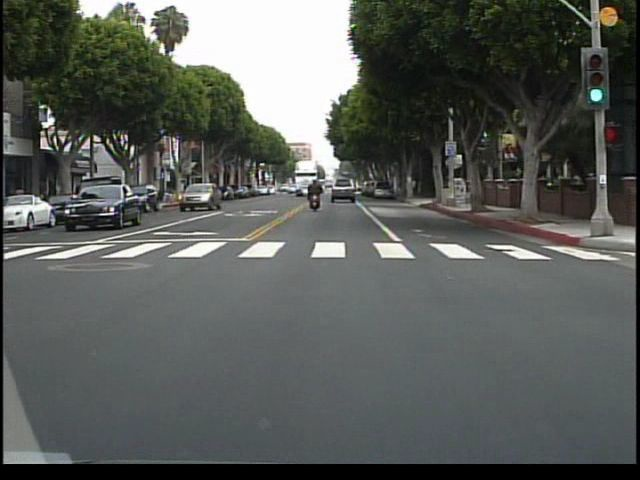person: (304, 175, 324, 213)
